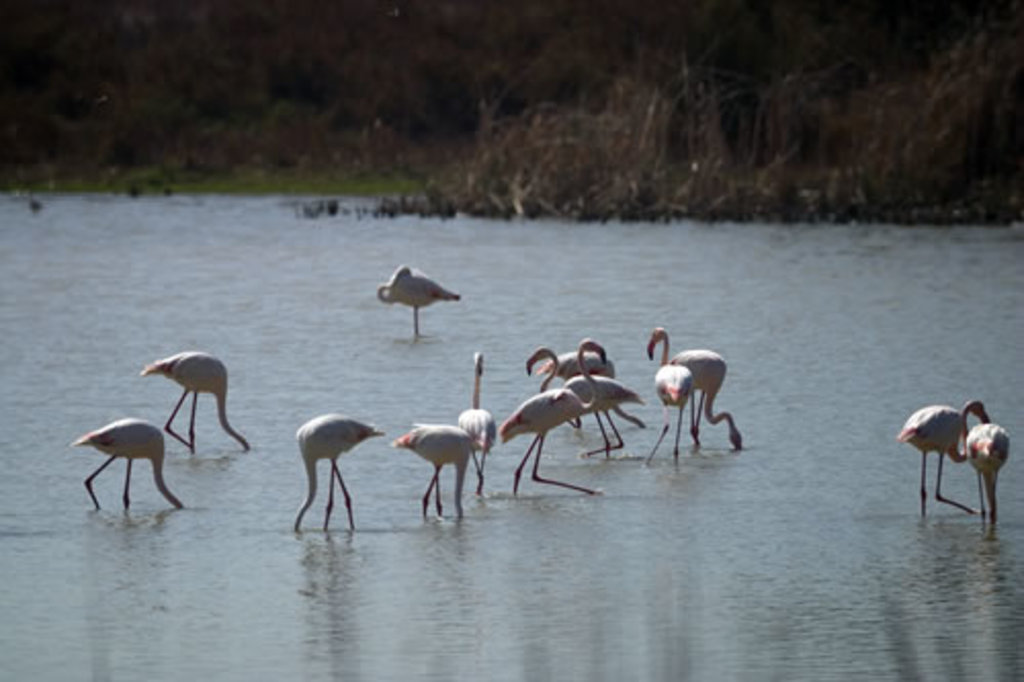Bird: (502, 340, 604, 502), (528, 348, 645, 459), (139, 352, 250, 461), (897, 403, 991, 522), (72, 418, 184, 512), (299, 414, 385, 530), (541, 350, 627, 444), (391, 426, 475, 520), (453, 354, 502, 498), (666, 352, 737, 449), (647, 328, 696, 465), (375, 266, 463, 338), (967, 418, 1012, 535)
